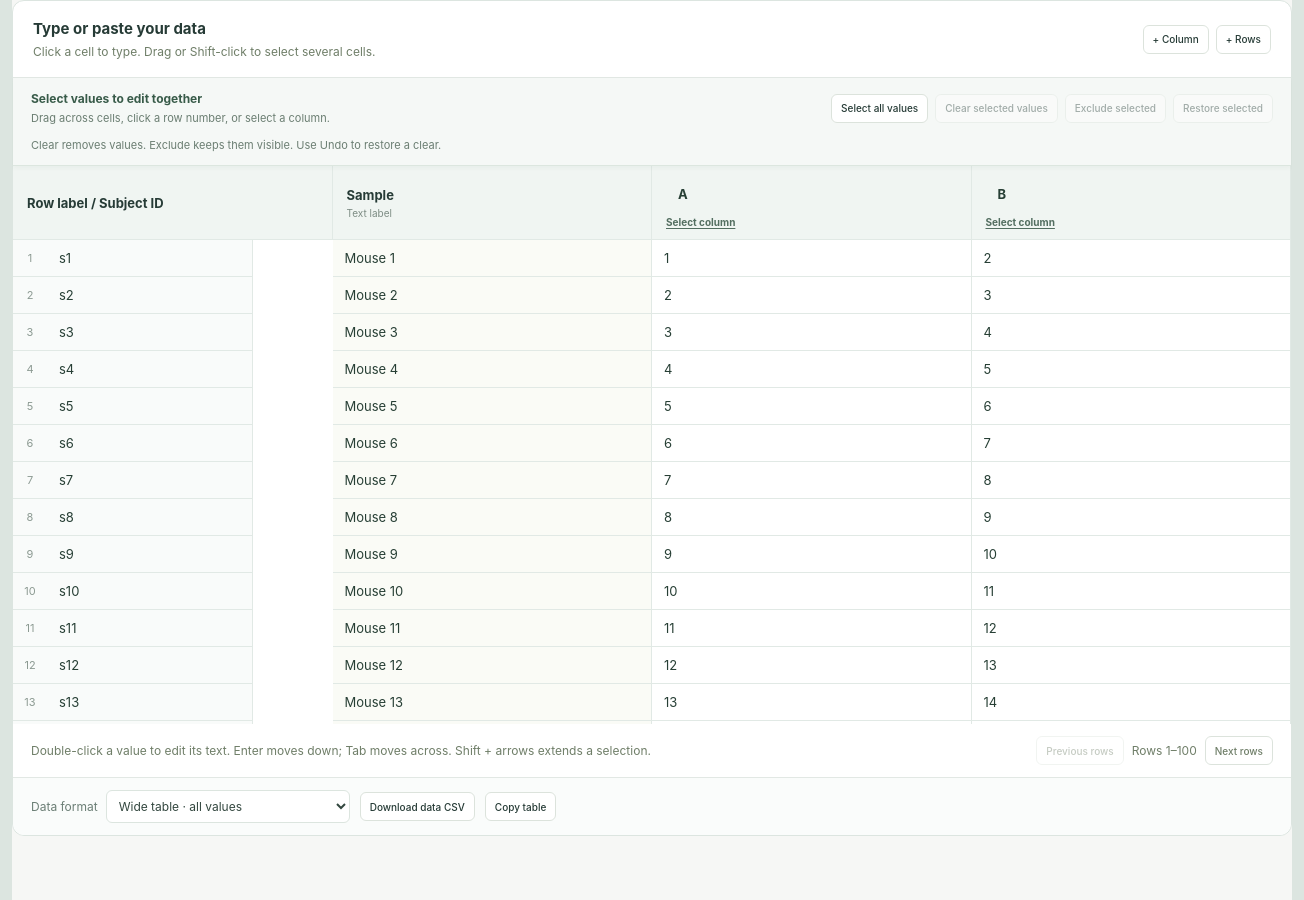
Test case: selects and clears a whole column across pages without shifting rows or touching other columns
The width and height of the screenshot is (1304, 900).
Click the button with aria-label "Select column A": coordinates (701, 220) [666,212,735,228]
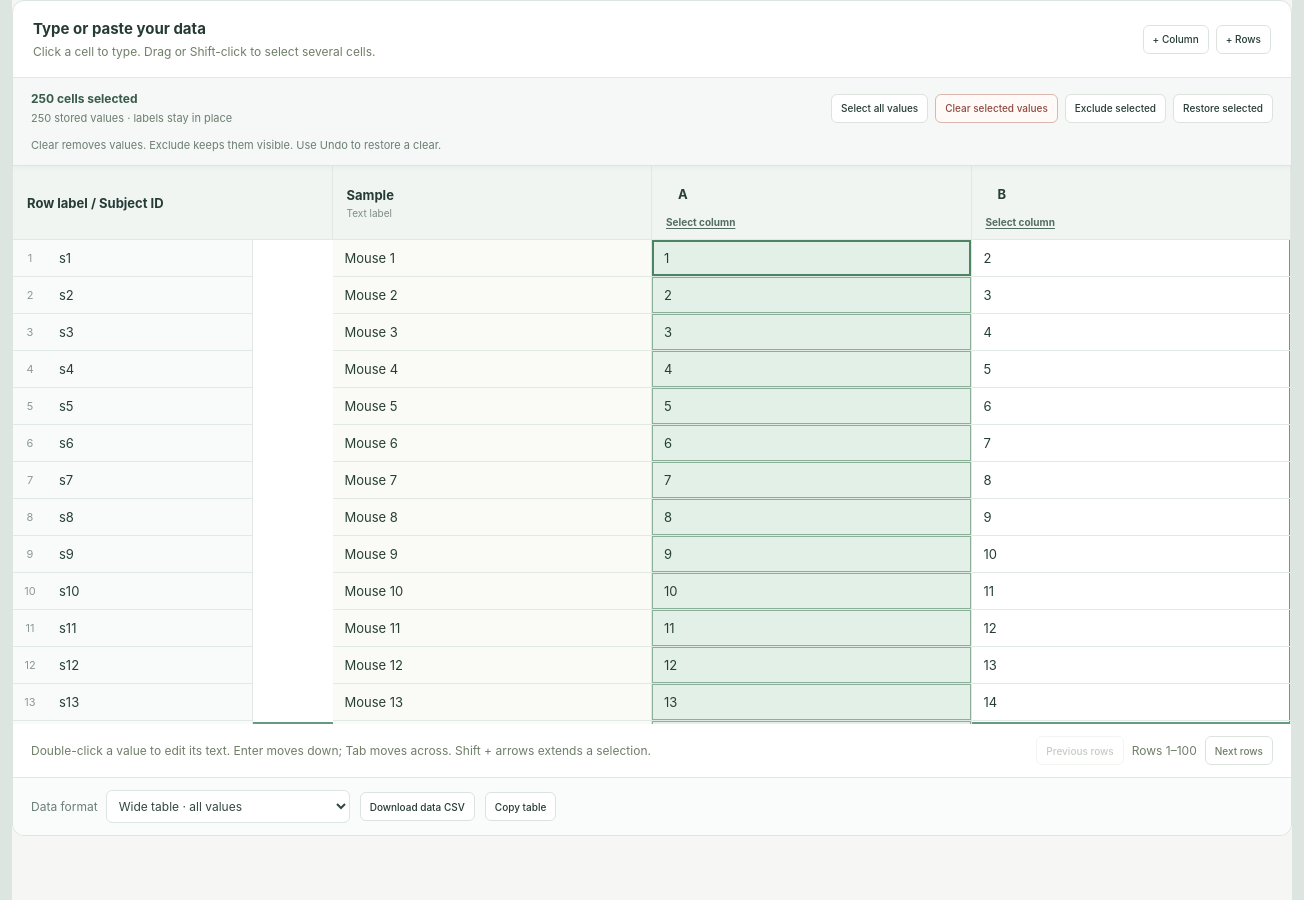
Result: the text "250 cells selected" is shown at [31,91,138,106]
Click the button "Clear selected values": coordinates (997, 108) [935,94,1058,122]
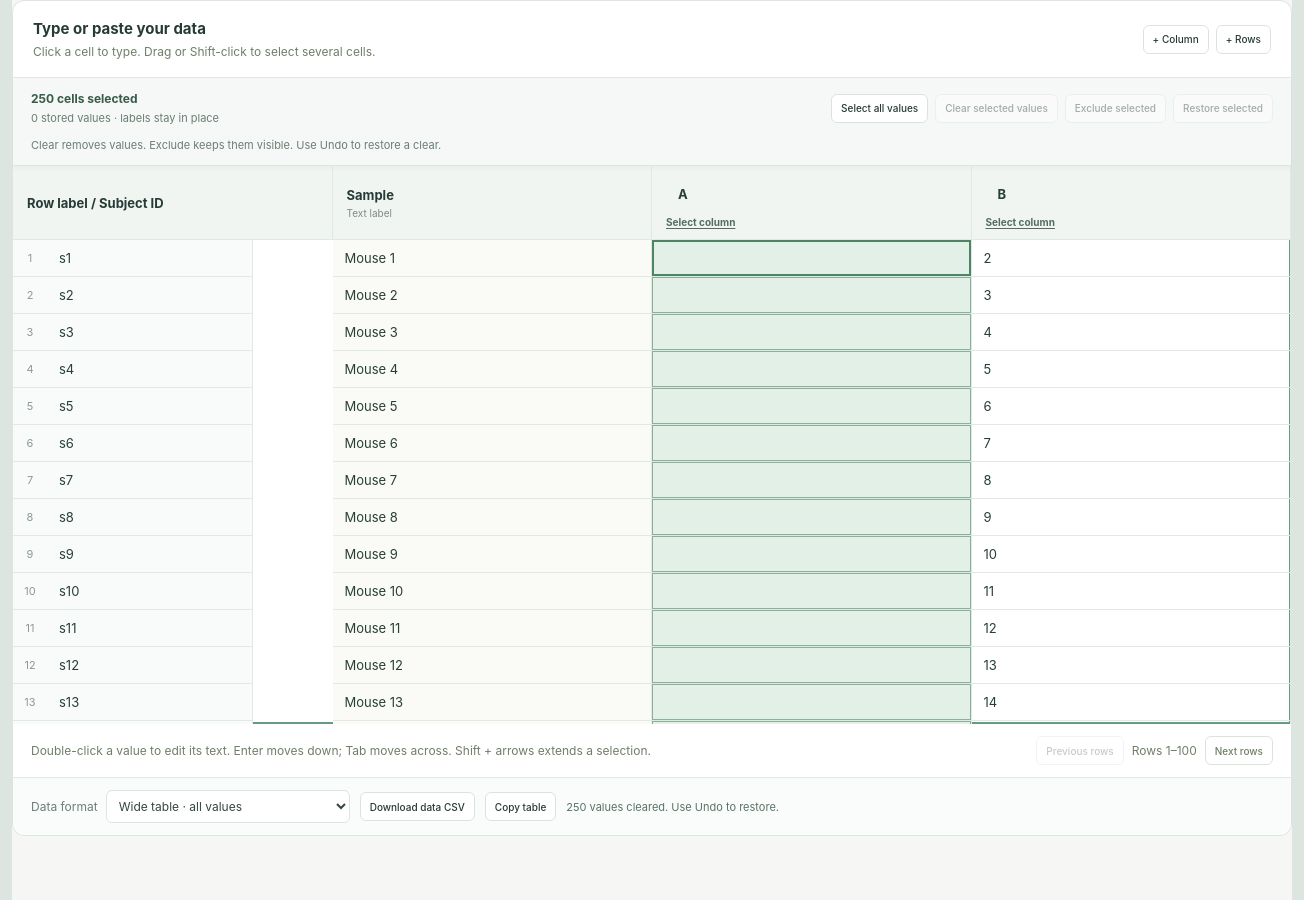
Click the button "Next rows": coordinates (1239, 750) [1205,736,1273,765]
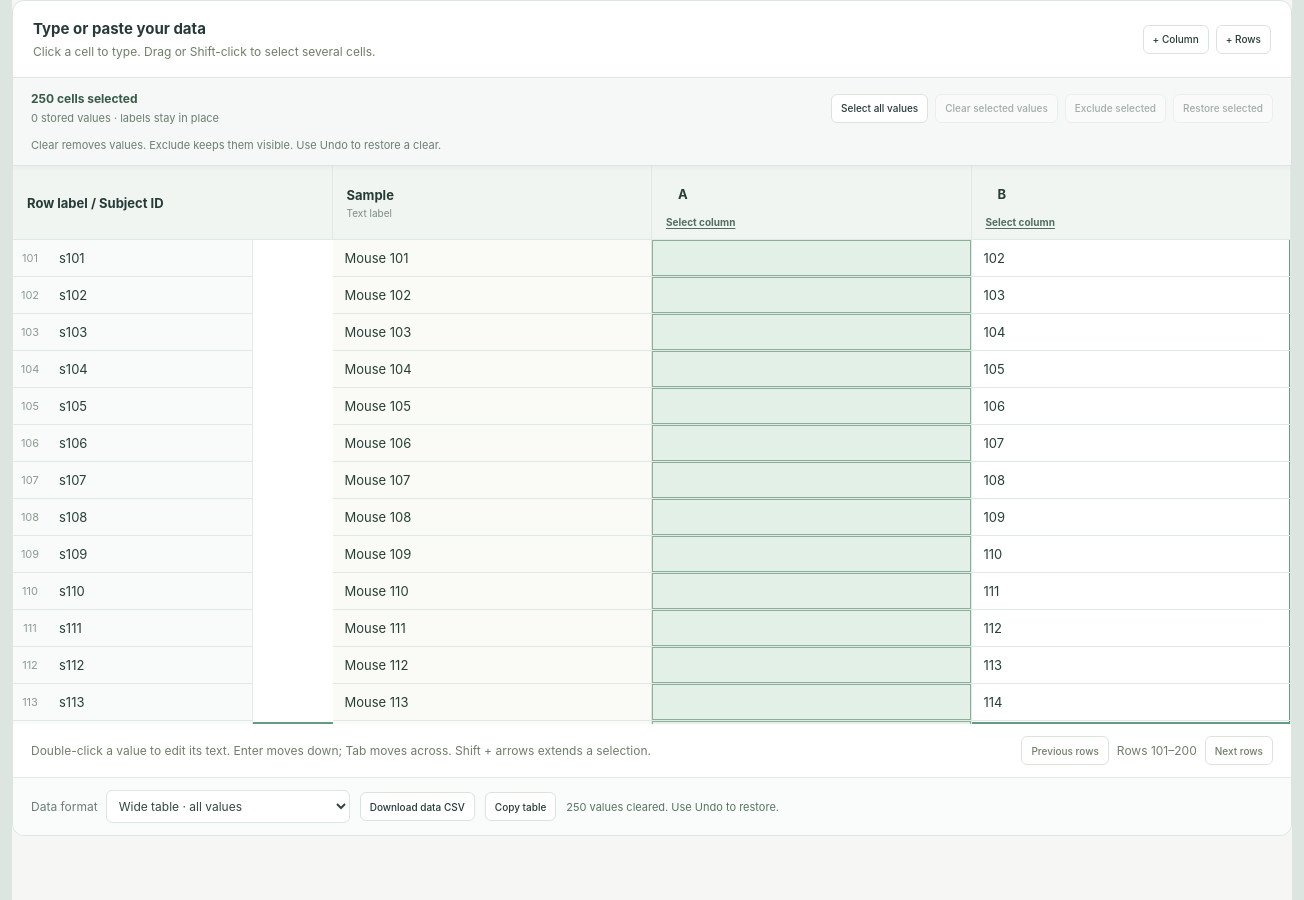
Click the button "Next rows": coordinates (1239, 750) [1205,736,1273,765]
(page scrolled)
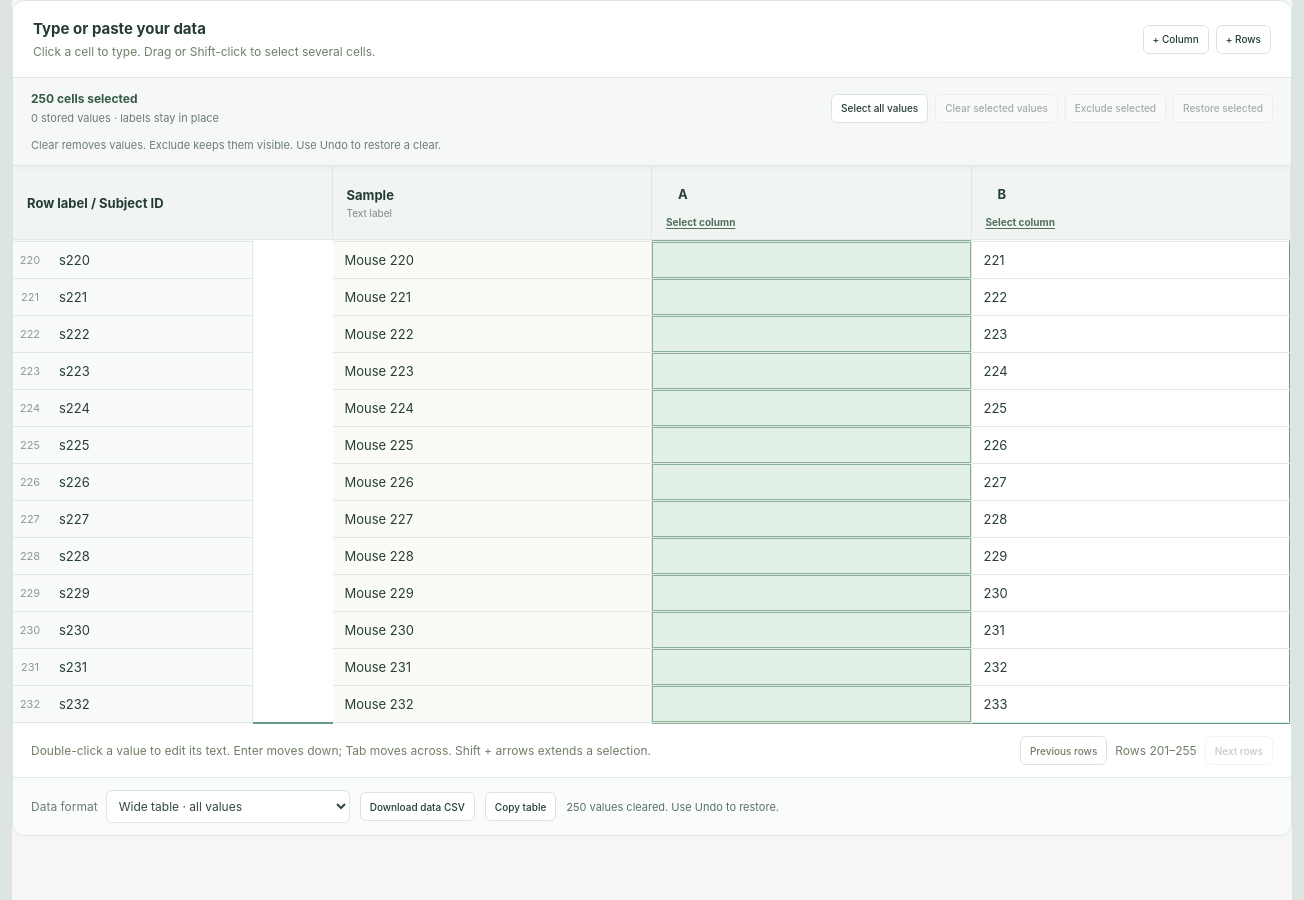
Result: the field named "A, row 225" is empty at [652,427,970,463]
Result: the field named "B, row 225" holds "226" at [972,427,1290,463]
Result: the field named "Sample, row 225" holds "Mouse 225" at [332,427,651,463]
